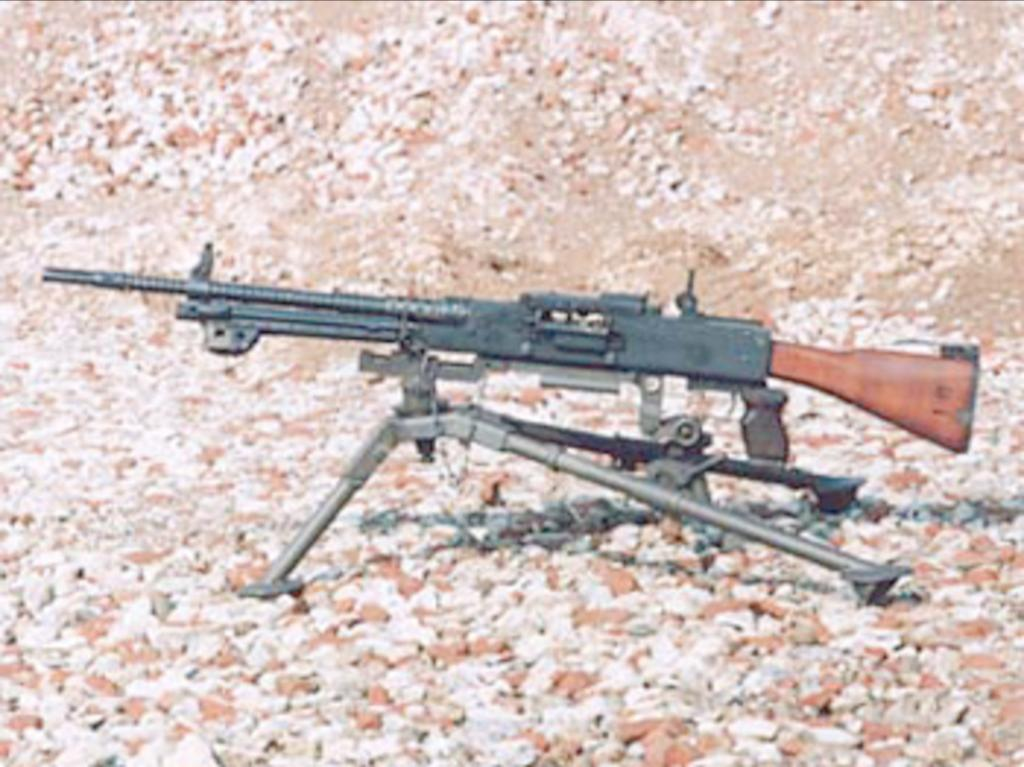gun: (38, 247, 980, 603)
